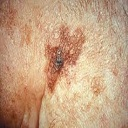Melanoma: (43, 42, 71, 77)
